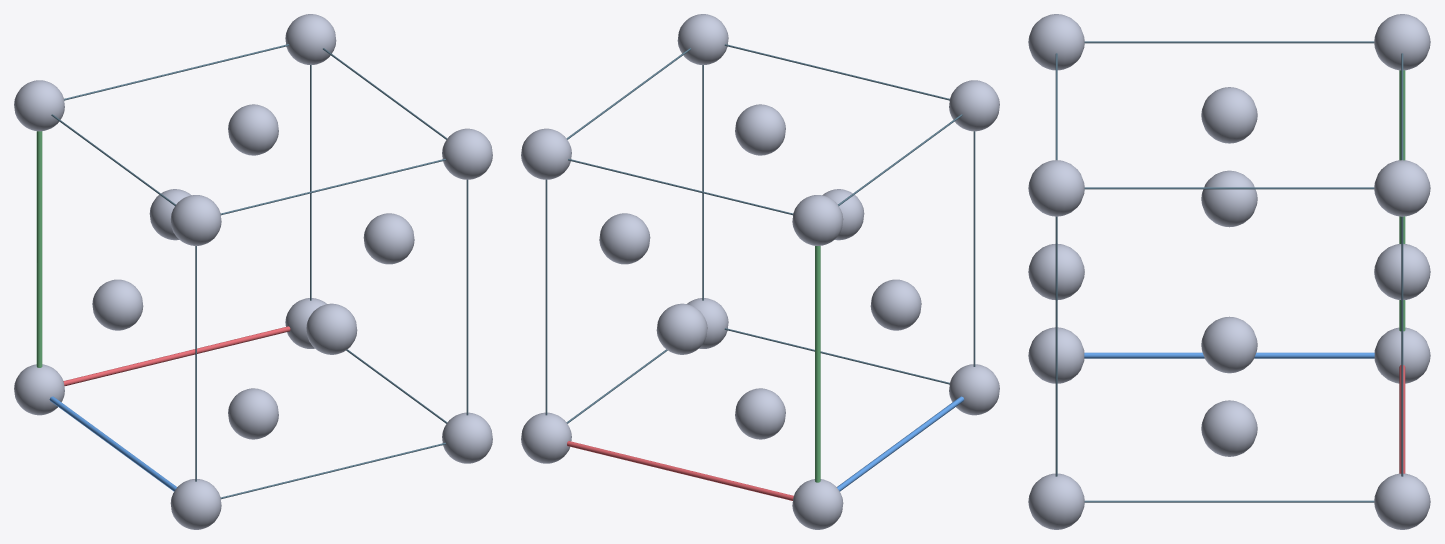
Rendered from native-platinum.glb.
The picture shows the model from 3 angles, left to right: view 1: azimuth 30°, elevation 25°; view 2: azimuth 150°, elevation 25°; view 3: azimuth 270°, elevation 25°; orthographic projection. The views are drawn at different scales.
Visible parts, largest first — view 1: Pt · Pt · 1 (×14), Ô mạng và các trục a, b, c; view 2: Pt · Pt · 1 (×14), Ô mạng và các trục a, b, c; view 3: Pt · Pt · 1 (×14), Ô mạng và các trục a, b, c.
Part boxes in pixels (bbox=[...]): Pt · Pt · 1 (×14): bbox=[14, 14, 492, 529]; Ô mạng và các trục a, b, c: bbox=[36, 44, 468, 499]; Pt · Pt · 1 (×14): bbox=[521, 14, 999, 529]; Ô mạng và các trục a, b, c: bbox=[545, 44, 975, 500]; Pt · Pt · 1 (×14): bbox=[1028, 14, 1430, 529]; Ô mạng và các trục a, b, c: bbox=[1055, 41, 1405, 502].
Bounding box in the file's own units: 4.56 × 4.56 × 4.56.
